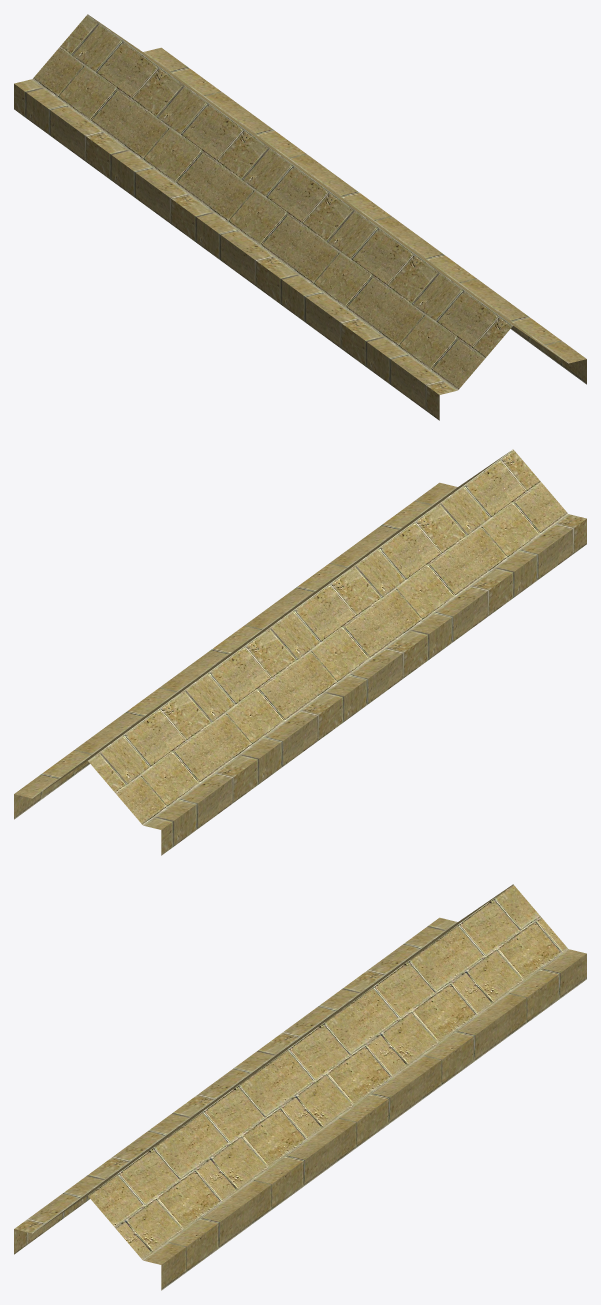
The model's file is zdWallCap10x1.fbx.
3 renders of one model, top to bottom at view 1: azimuth 30°, elevation 25°; view 2: azimuth 150°, elevation 25°; view 3: azimuth 330°, elevation 25°, orthographic.
Visible parts, largest first — view 1: SketchUp; view 2: SketchUp; view 3: SketchUp.
Part boxes in pixels (left/top/right/bottom): SketchUp: left=14, top=14, right=586, bottom=420; SketchUp: left=14, top=449, right=586, bottom=855; SketchUp: left=14, top=884, right=586, bottom=1290.
Bounding box in the file's own units: 0.6096 × 0.3048 × 3.05.
